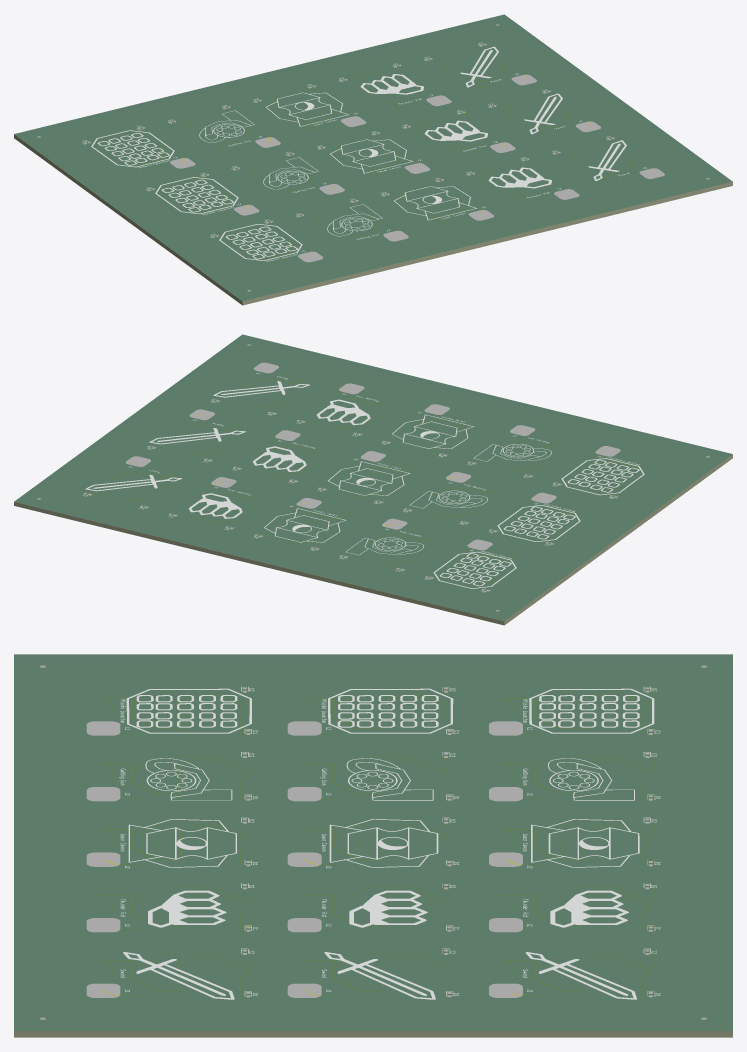
Rendered from dc34-cpec-mech-sao.glb.
3 views of the same model, one above another, from view 1: azimuth 30°, elevation 25°; view 2: azimuth 150°, elevation 25°; view 3: azimuth 270°, elevation 25° (orthographic). The views are drawn at different scales.
Visible parts, largest first — view 1: =>[0:1:1:7], =>[0:1:1:9], =>[0:1:1:5], =>[0:1:1:2]; view 2: =>[0:1:1:7], =>[0:1:1:9], =>[0:1:1:5], =>[0:1:1:2]; view 3: =>[0:1:1:7], =>[0:1:1:9], =>[0:1:1:5], =>[0:1:1:2].
Part boxes in pixels (x1,y1,x2,y2): =>[0:1:1:7]: (14, 14, 732, 305); =>[0:1:1:9]: (14, 15, 732, 305); =>[0:1:1:5]: (82, 42, 646, 261); =>[0:1:1:2]: (84, 44, 664, 266); =>[0:1:1:7]: (14, 334, 732, 625); =>[0:1:1:9]: (14, 335, 732, 625); =>[0:1:1:5]: (83, 372, 644, 592); =>[0:1:1:2]: (83, 362, 646, 591); =>[0:1:1:7]: (14, 654, 732, 1037); =>[0:1:1:9]: (14, 655, 732, 1037); =>[0:1:1:5]: (119, 686, 660, 999); =>[0:1:1:2]: (86, 687, 652, 997).
Bounding box in the file's own units: 0.1967 × 0.00166 × 0.1587.
4 materials, 4 textured.
